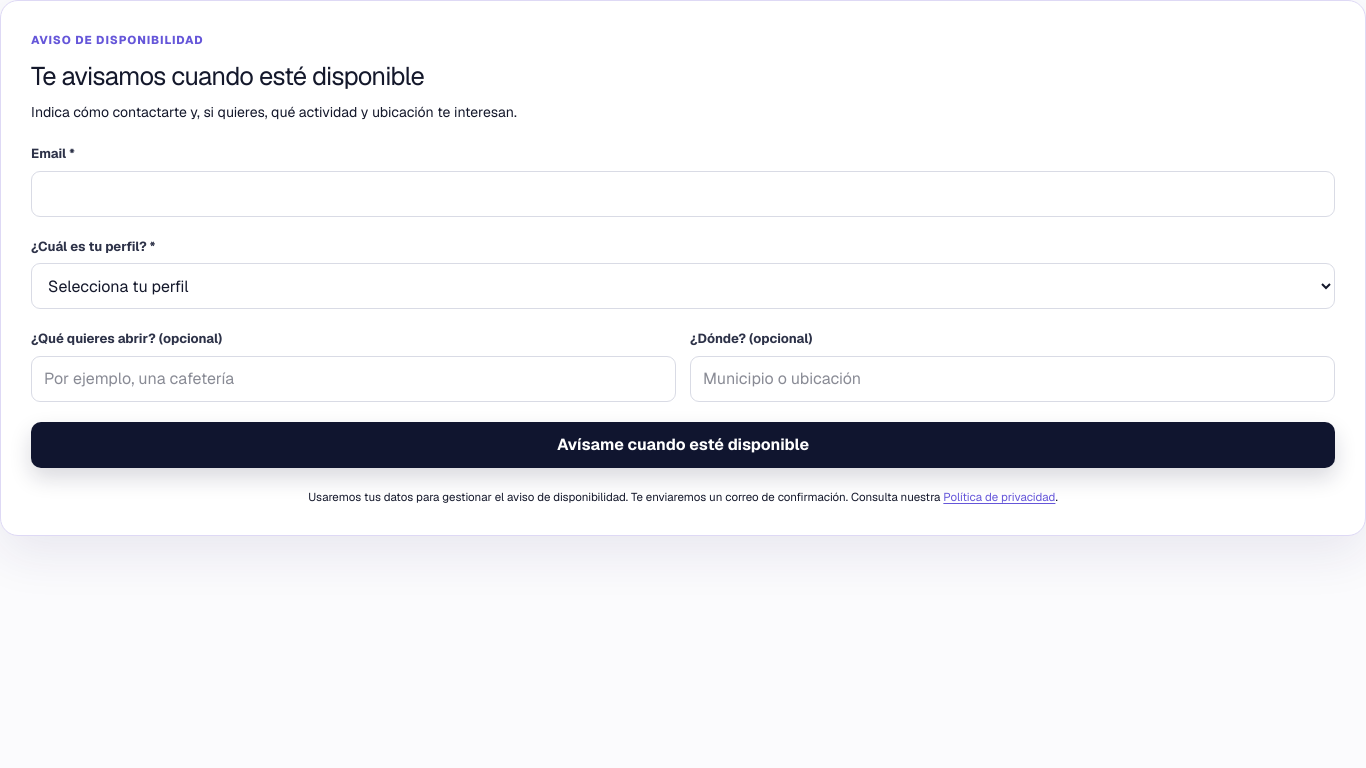
Test: availability lead form › does not convert when storage rejects the request
In the field labelled "Email *": [683, 194] box 31,171 -> 1335,217, type "qa@example.com"
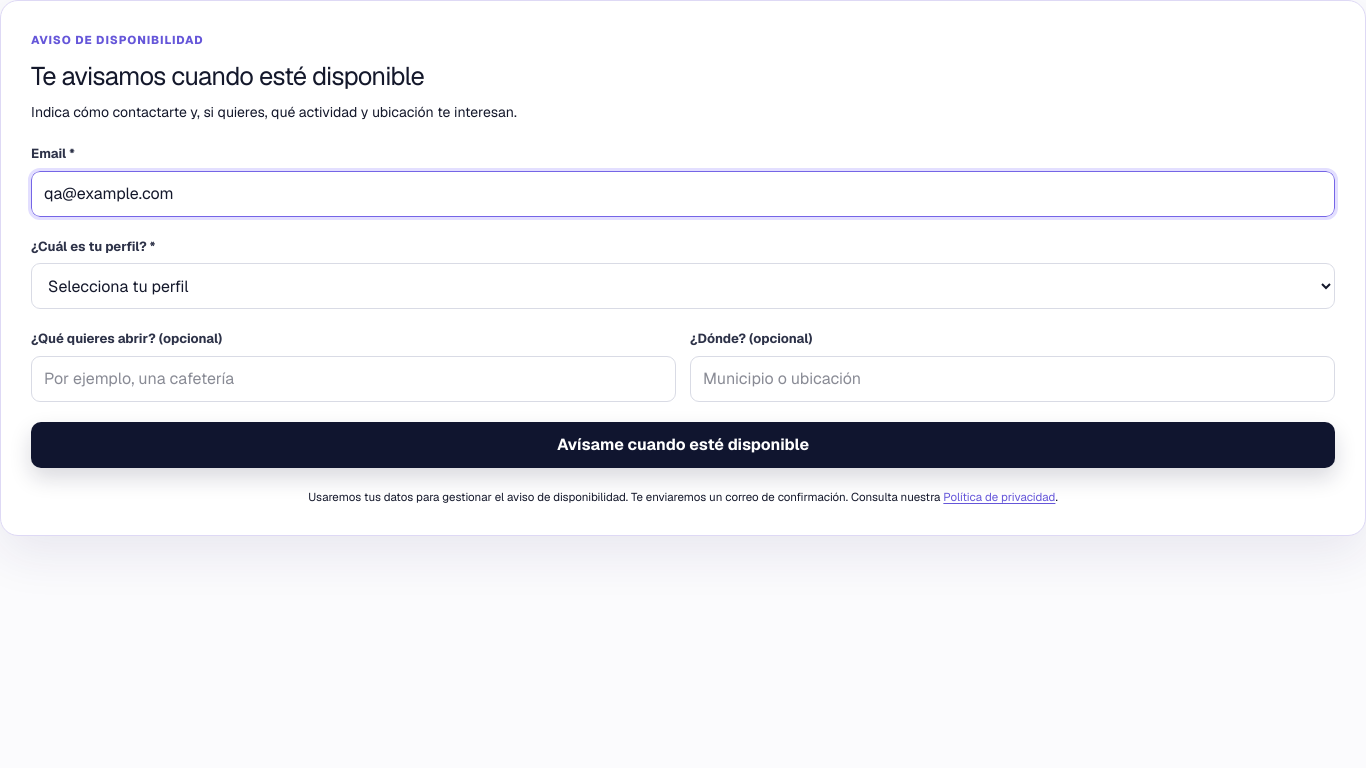
Select "Emprendedor / pyme" in the dropdown labelled "¿Cuál es tu perfil? *": [683, 286] box 31,263 -> 1335,309
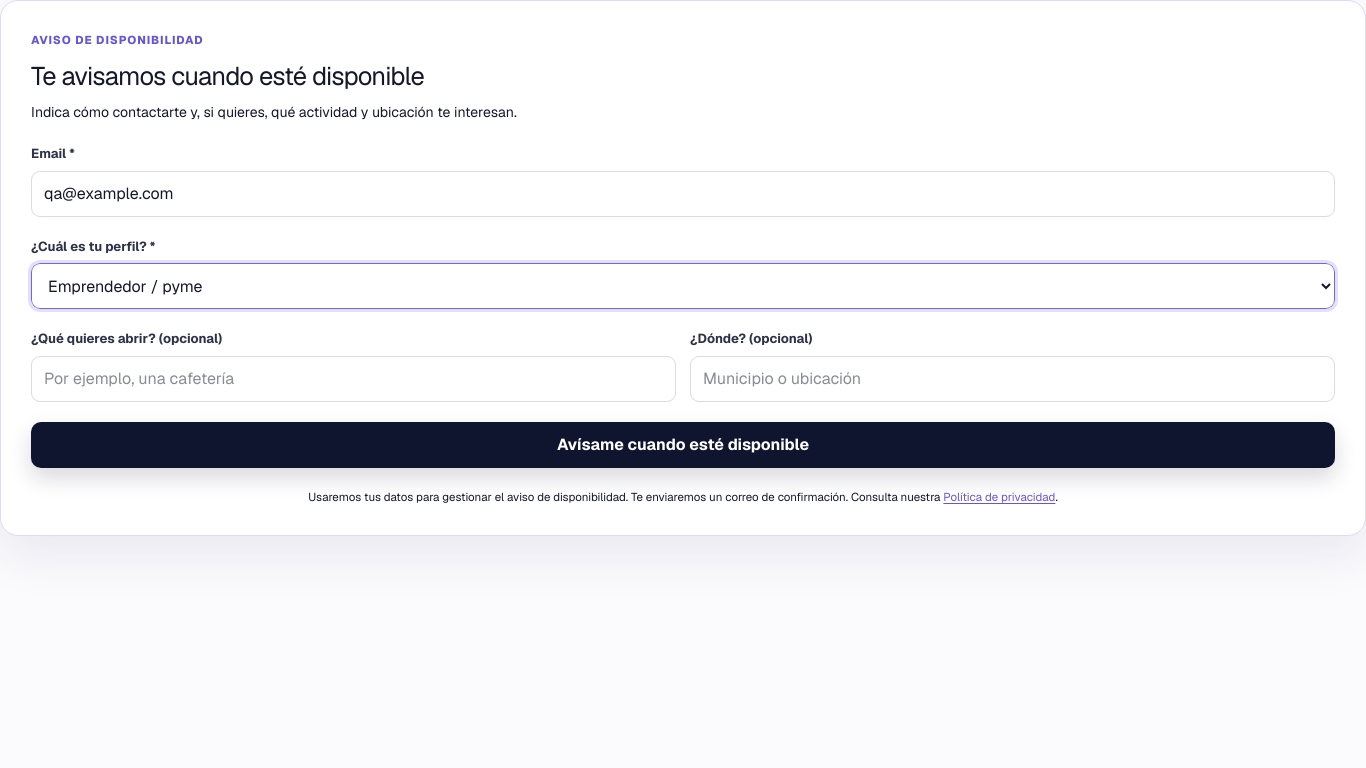
Click the button "Avísame cuando esté disponible": [683, 445] box 31,422 -> 1335,468
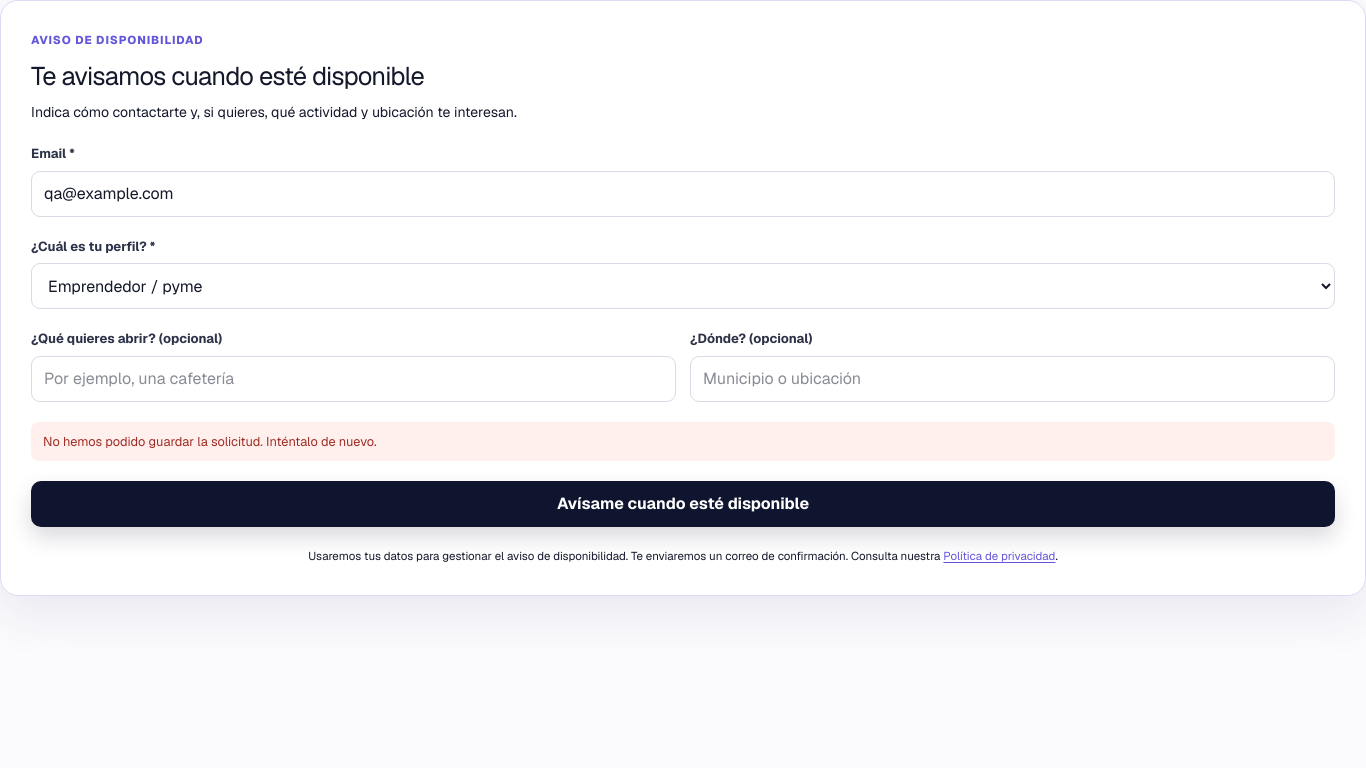
Check: the message "No hemos podido guardar la solicitud. Inténtalo de nuevo." is shown, box 31,422 -> 1335,461
